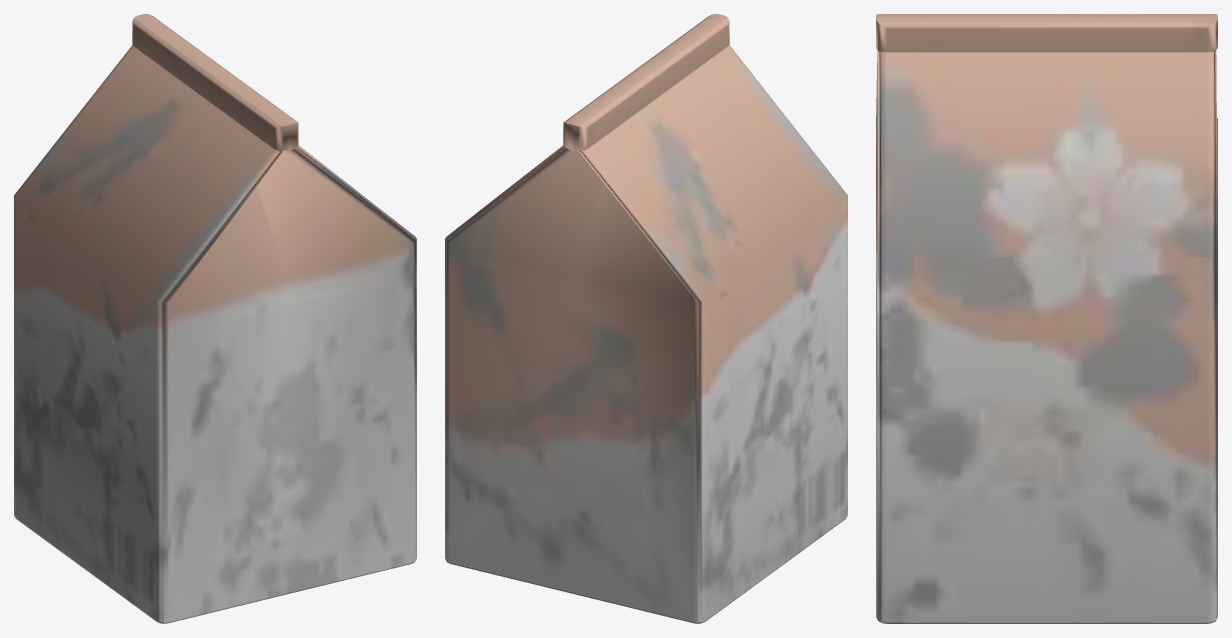
Rendered from imp-half-and-half.glb.
3 renders of one model, left to right at view 1: azimuth 30°, elevation 25°; view 2: azimuth 150°, elevation 25°; view 3: azimuth 270°, elevation 25°, orthographic. The views are drawn at different scales.
Parts seen in each view (by area): view 1: milkcartonmini_lambert1_0; view 2: milkcartonmini_lambert1_0; view 3: milkcartonmini_lambert1_0.
Boxes of the visible parts, x1,y1,x2,y2 form: milkcartonmini_lambert1_0: (14, 14, 416, 623); milkcartonmini_lambert1_0: (445, 14, 847, 623); milkcartonmini_lambert1_0: (876, 14, 1217, 623).
Size of the model in its own units: 0.1153 by 0.2 by 0.1153.
Materials: 1 (1 with a texture image).
